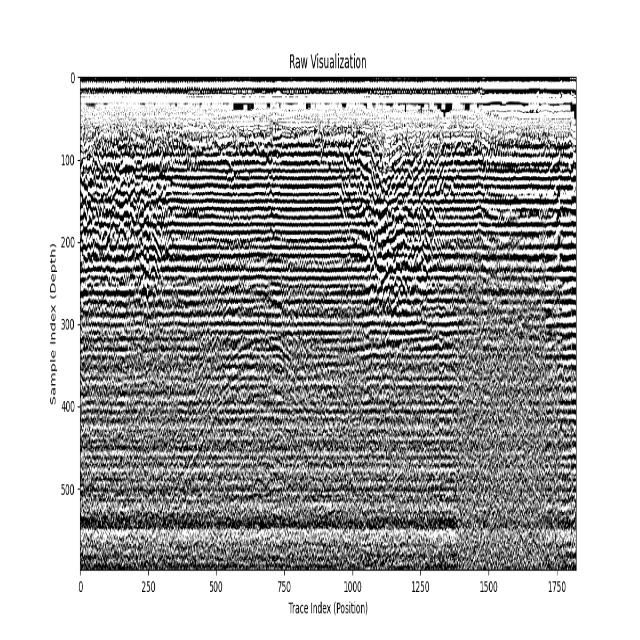anomaly: (132, 277, 367, 535), (340, 152, 453, 314)
